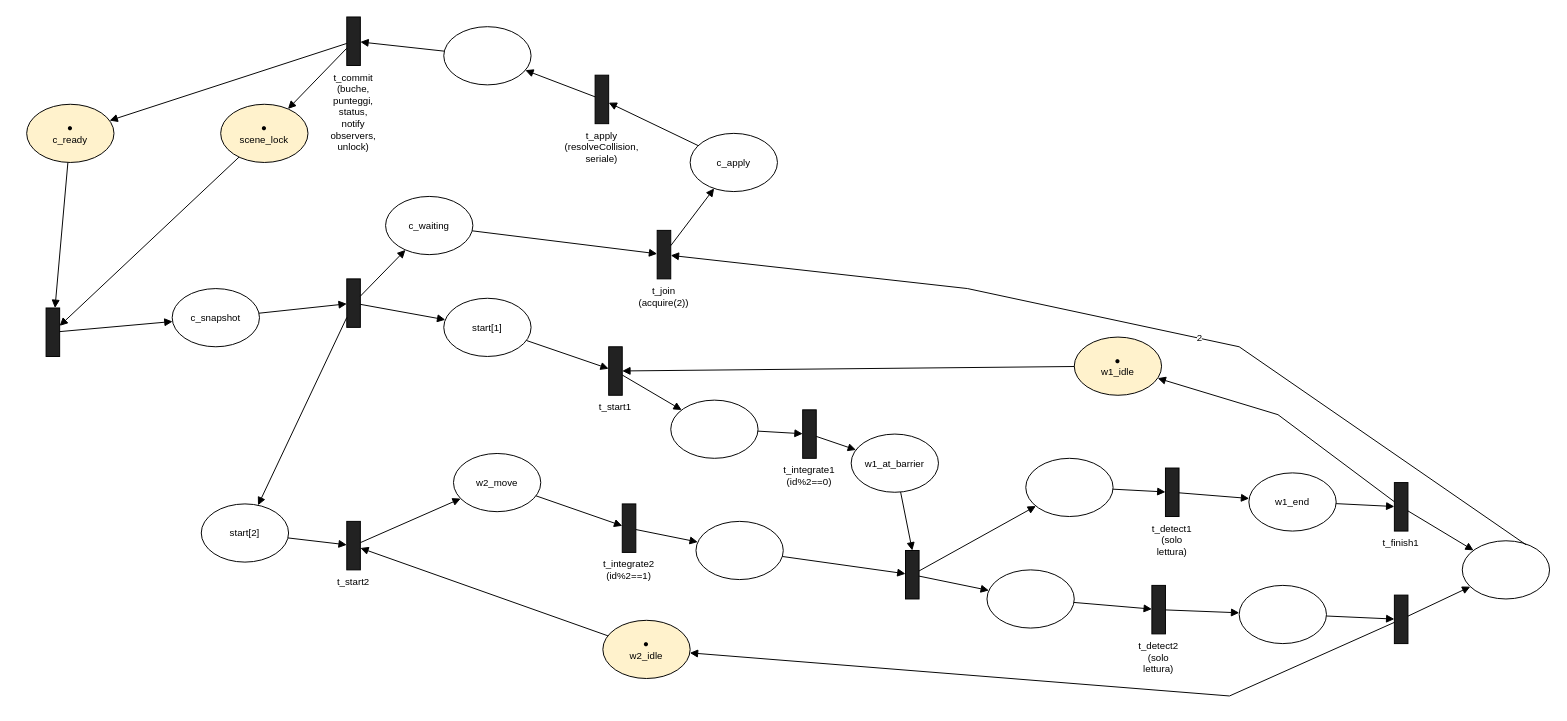
This 1567x721 diagram has some shape labels left out. Each missing label, with the centre of its shape:
c_commit: the point at 487,55
finished: the point at 1505,569
t_barrier (CyclicBarrier.await): the point at 912,574
t_finish2: the point at 1400,619
t_fork (release start[*]): the point at 353,302
t_lock (lockInterruptibly, copia board): the point at 52,331
w1_detect: the point at 1069,487
w1_move: the point at 714,428
w2_at_barrier: the point at 739,550
w2_detect: the point at 1030,598
w2_end: the point at 1282,614
